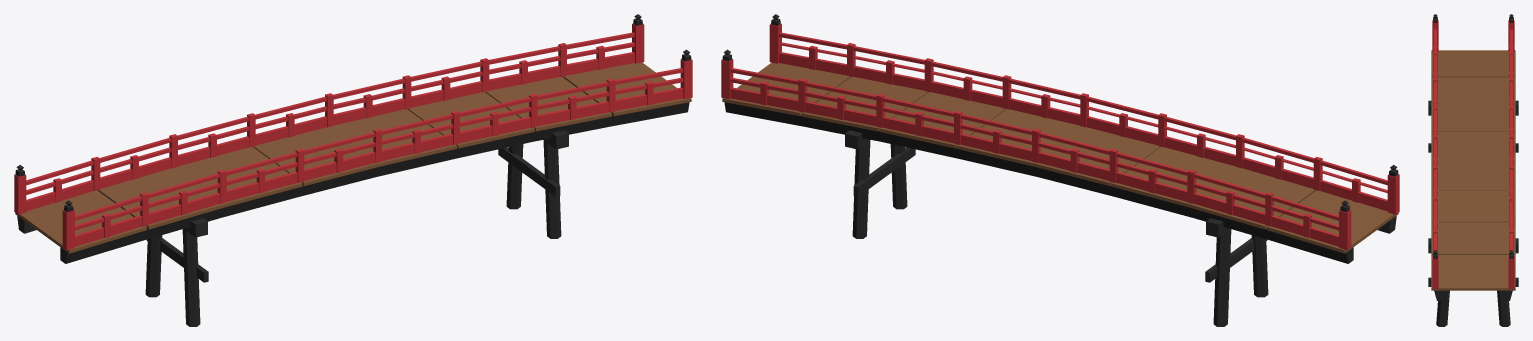
File: japan_bridge-japan.fbx
3 renders of one model, left to right at view 1: azimuth 30°, elevation 25°; view 2: azimuth 150°, elevation 25°; view 3: azimuth 270°, elevation 25°, orthographic. The views are drawn at different scales.
Visible parts, largest first — view 1: japan_bridge_japan; view 2: japan_bridge_japan; view 3: japan_bridge_japan.
Boxes of the visible parts, box(x1,y1,x2,y2) form: japan_bridge_japan: box(14, 14, 692, 326); japan_bridge_japan: box(721, 14, 1399, 326); japan_bridge_japan: box(1428, 14, 1518, 326).
Size of the model in its own units: 200 by 48.37 by 31.82.
